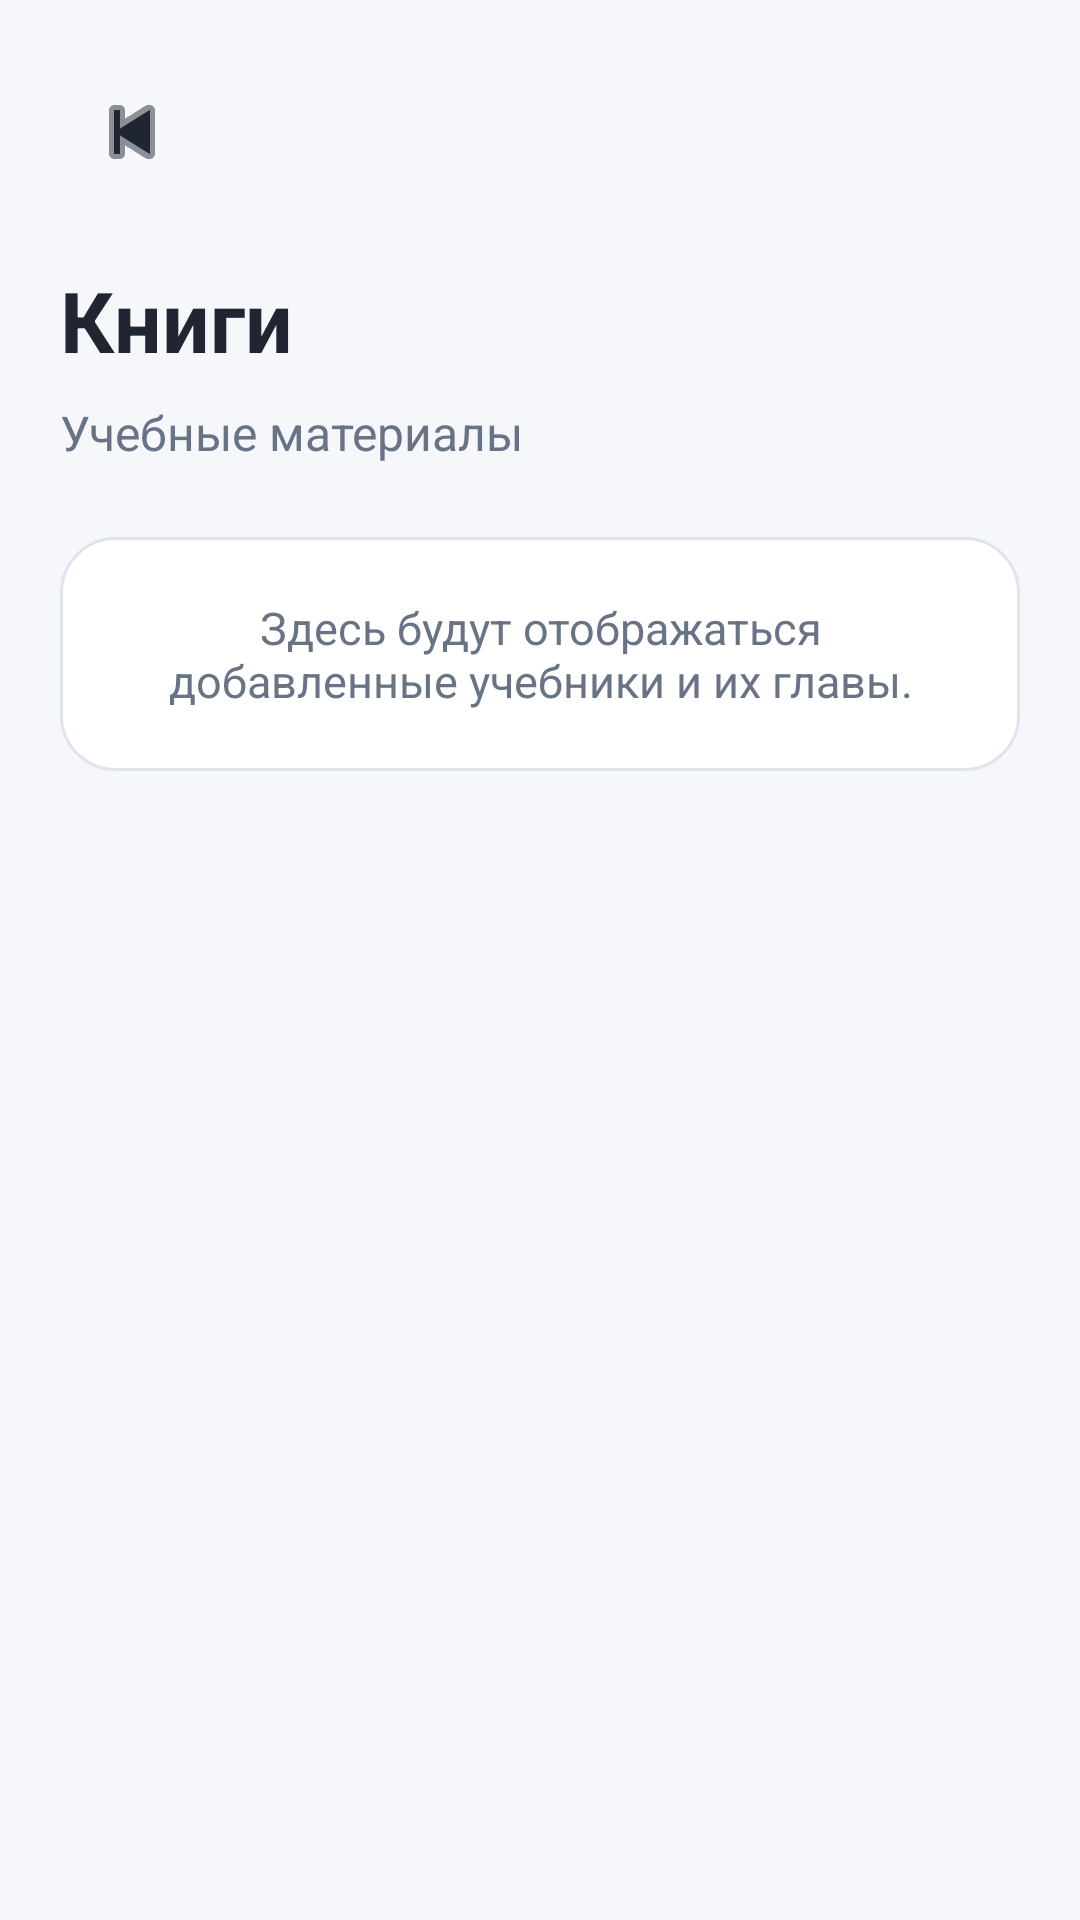

Locate icon controls on the screen. Image size 1080 x 1920, boxes as (x1, y1, x2, y2).
Назад: (109, 105, 155, 159)
